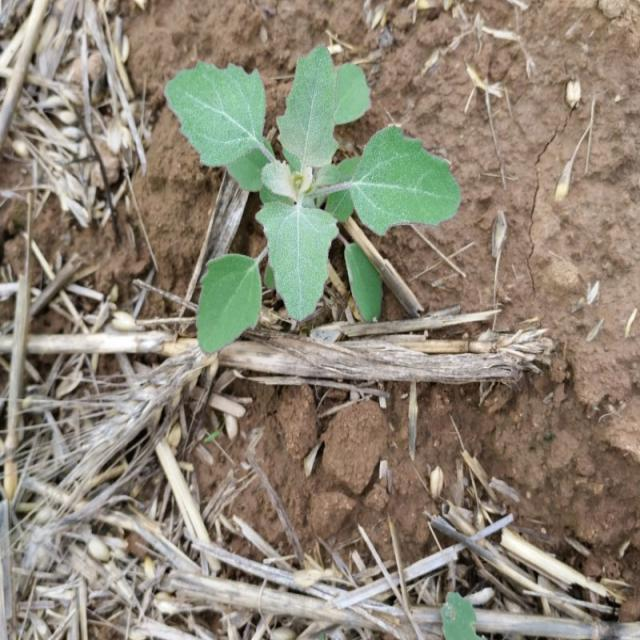goosefoots: (145, 38, 447, 340)
